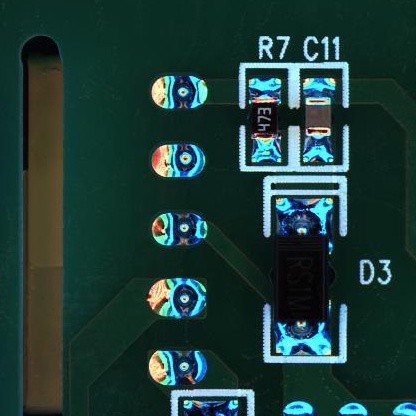spot: (149, 278, 210, 319), (147, 350, 208, 386), (152, 73, 209, 111), (152, 211, 207, 249), (151, 143, 207, 178)
